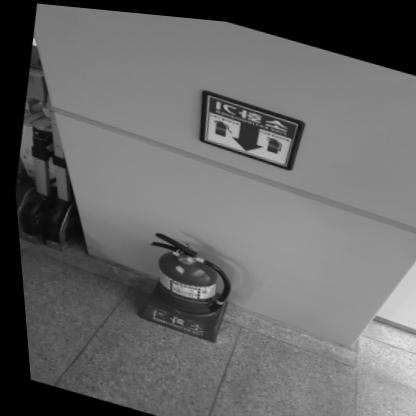FE: (123, 223, 242, 344)
